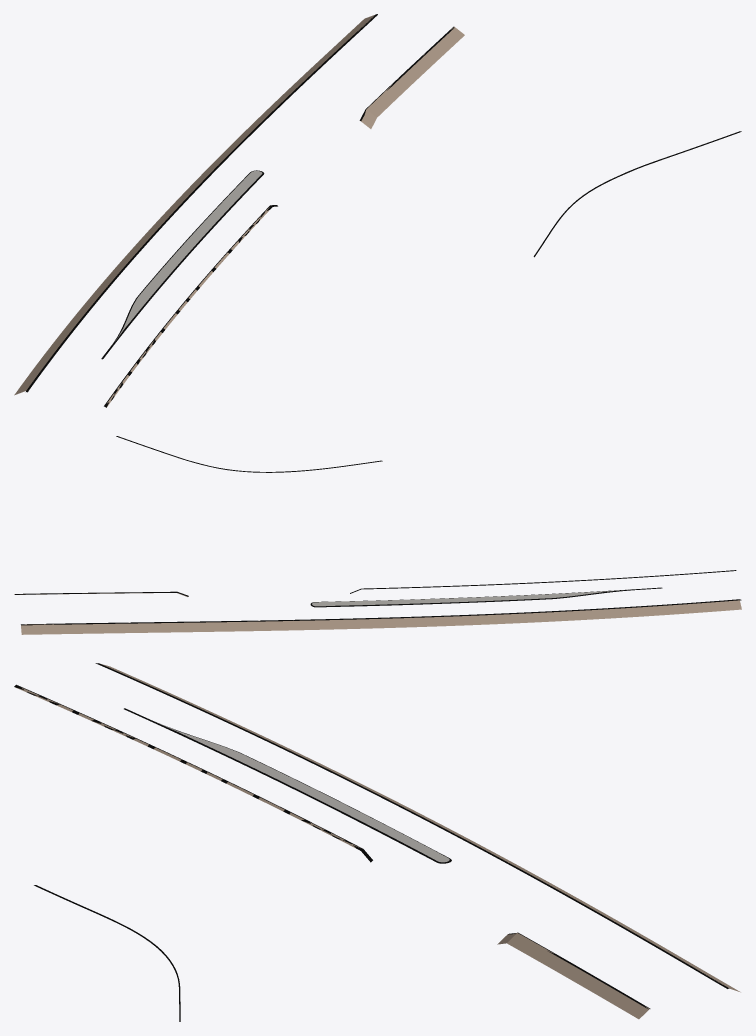
Rendered from sidewalk_brittlebush1.dae.
3 views of the same model, one above another, from view 1: azimuth 30°, elevation 25°; view 2: azimuth 150°, elevation 25°; view 3: azimuth 270°, elevation 25° (orthographic). The views are drawn at different scales.
Parts seen in each view (by area): view 1: sidewalk_brittlebush1_a2000, sidewalk_brittlebush1_a3000; view 2: sidewalk_brittlebush1_a2000, sidewalk_brittlebush1_a3000; view 3: sidewalk_brittlebush1_a2000, sidewalk_brittlebush1_a3000.
Part boxes in pixels (x1,y1,x2,y2): sidewalk_brittlebush1_a2000: (14, 15, 464, 406); sidewalk_brittlebush1_a3000: (26, 14, 741, 407); sidewalk_brittlebush1_a2000: (14, 589, 741, 634); sidewalk_brittlebush1_a3000: (15, 436, 741, 625); sidewalk_brittlebush1_a2000: (16, 664, 740, 1019); sidewalk_brittlebush1_a3000: (14, 663, 729, 1021).
Bounding box in the file's own units: 216 × 158 × 15.41.
